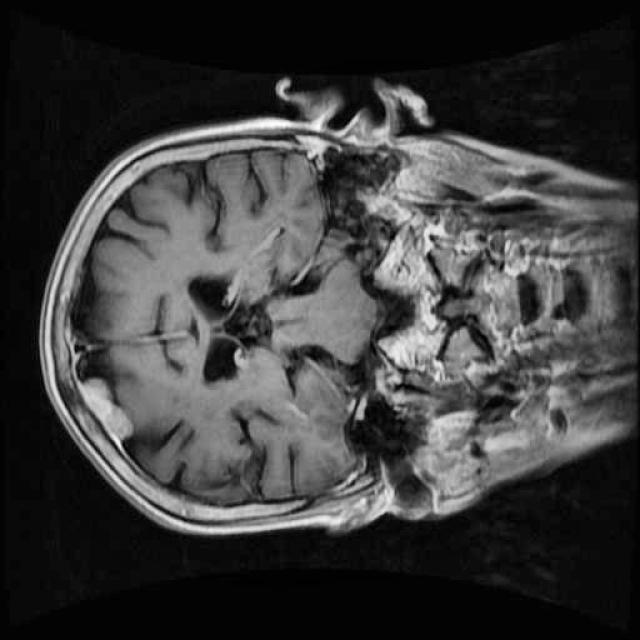Tumor: (55, 366, 150, 471)
